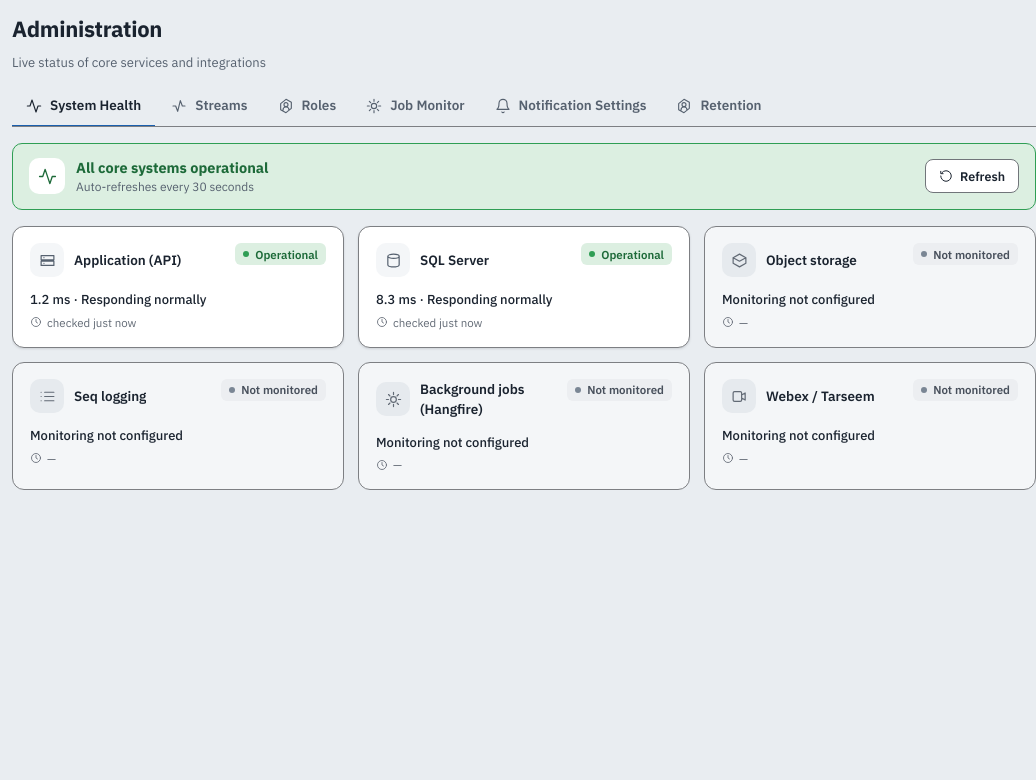
Scenario: AdministrationPage — sub-tab container › switches to Roles and renders the read-only Keycloak reference
Click the tab "Roles": coordinates (307, 106) [264, 86, 350, 126]
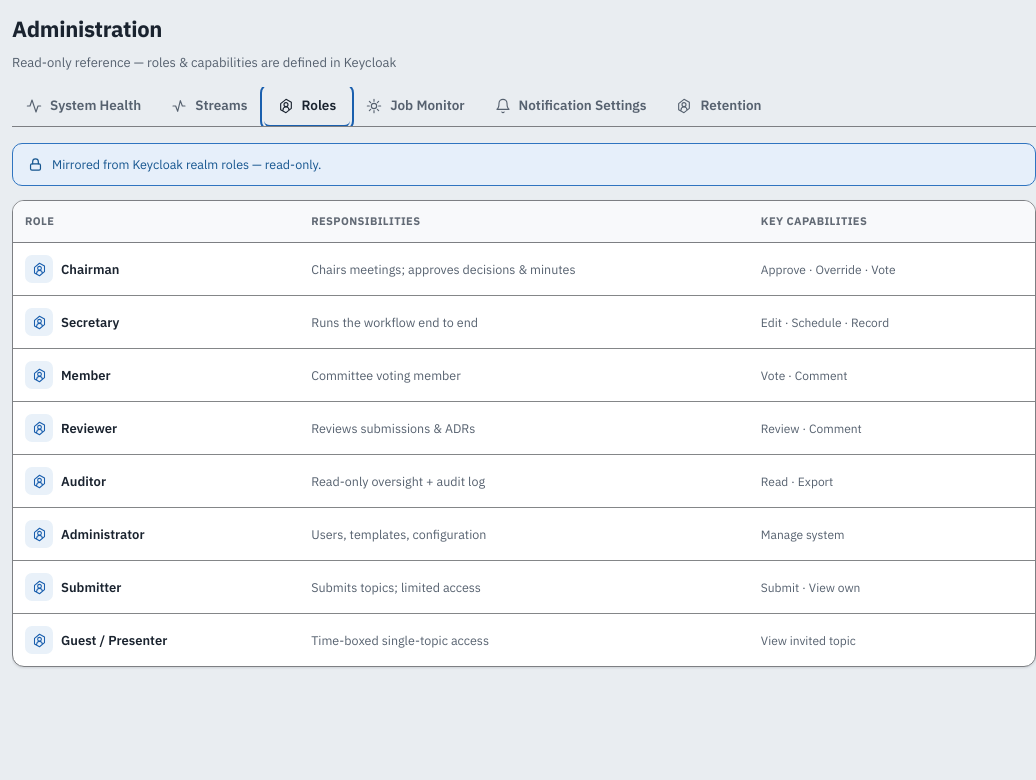
Result: the text "Mirrored from Keycloak realm roles — read-only." is shown at [52, 154, 322, 174]
Result: the text "Chairman" is shown at [61, 260, 119, 279]
Result: the text "Guest / Presenter" is shown at [61, 631, 167, 650]
